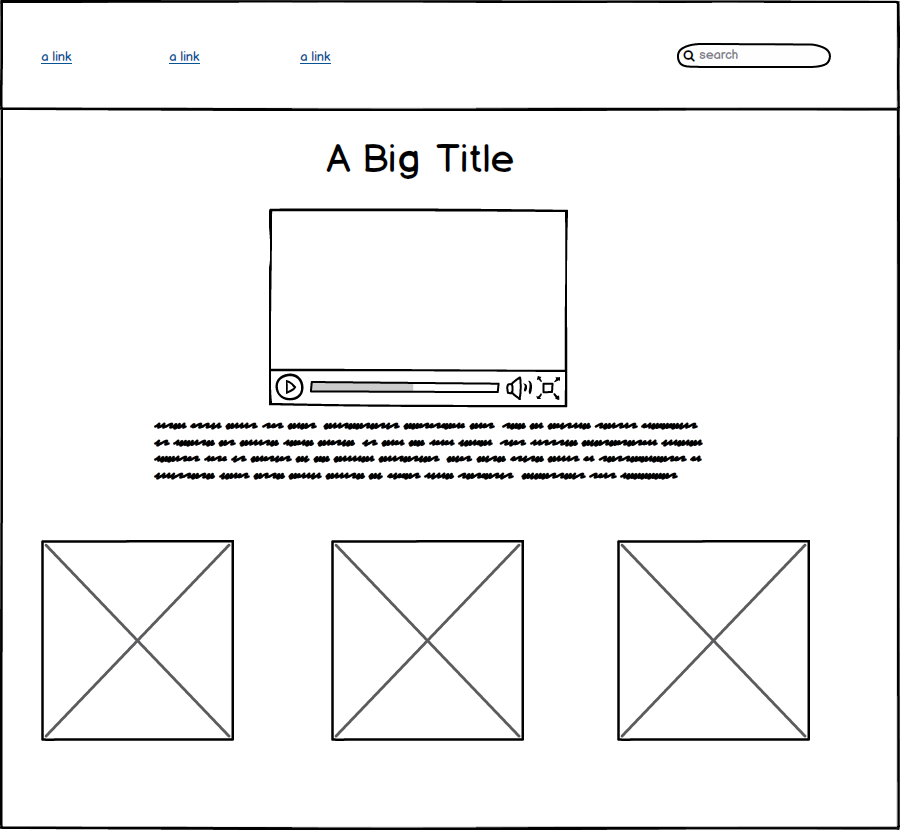h1: (311, 130, 527, 188)
image: (322, 538, 531, 745), (613, 535, 816, 743), (34, 534, 236, 743)
navlink: (156, 39, 207, 69), (292, 45, 341, 71), (32, 44, 75, 73)
p: (149, 419, 709, 487)
search: (671, 35, 840, 74)
video: (265, 201, 577, 415)
